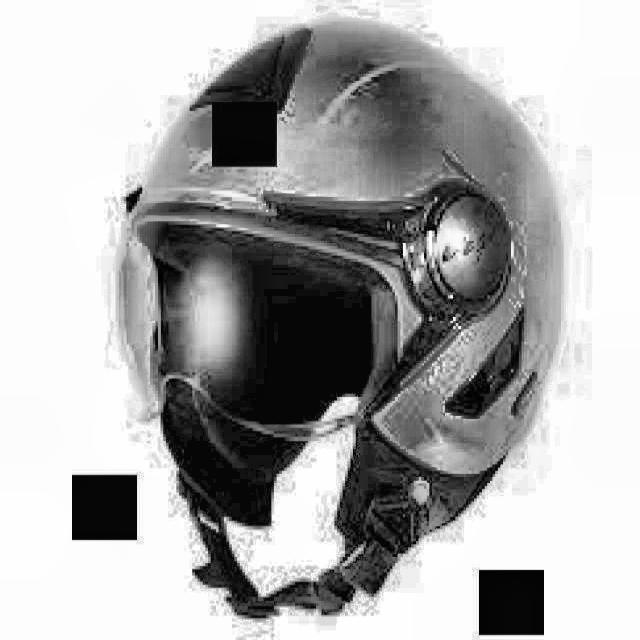Helmet: (113, 19, 572, 625)
